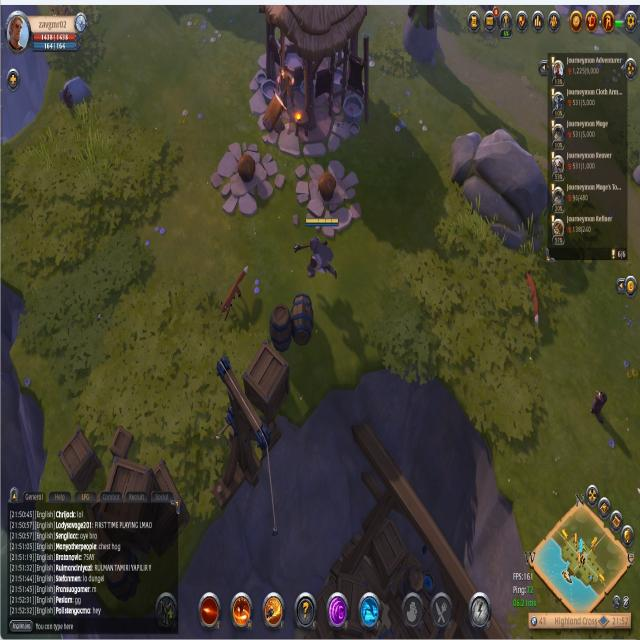stone: (57, 72, 93, 111)
